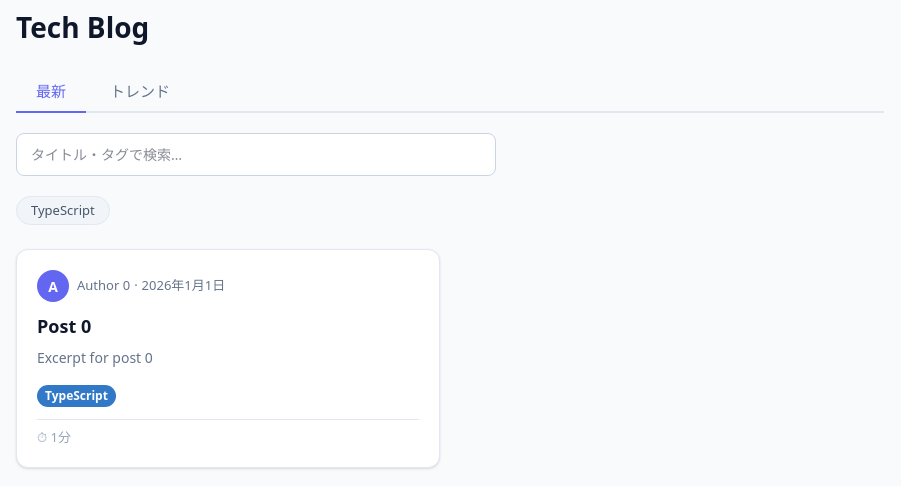
Test: TopPage › キーワード検索 › 検索クエリ有のときクリアボタンが表示される
In the field with test id "search-input": coordinates (256, 154) [16,132,496,176], type "hello"
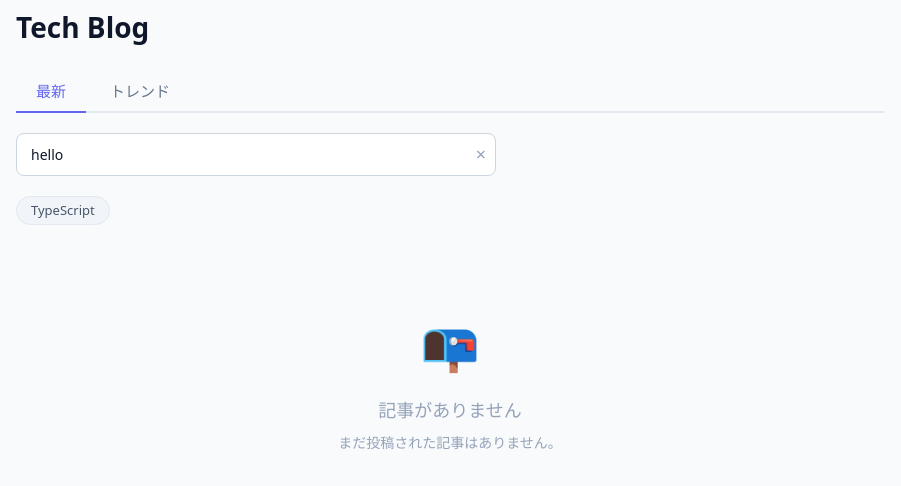
expect the button with test id "search-clear" is shown: met, box [476,145,486,163]
